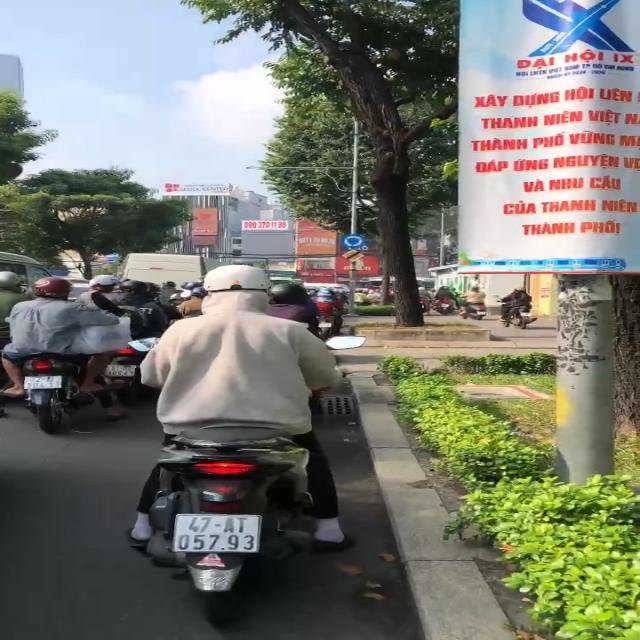Bien bao noi giao nhau chay theo vong xuyen: (340, 233, 368, 248)
